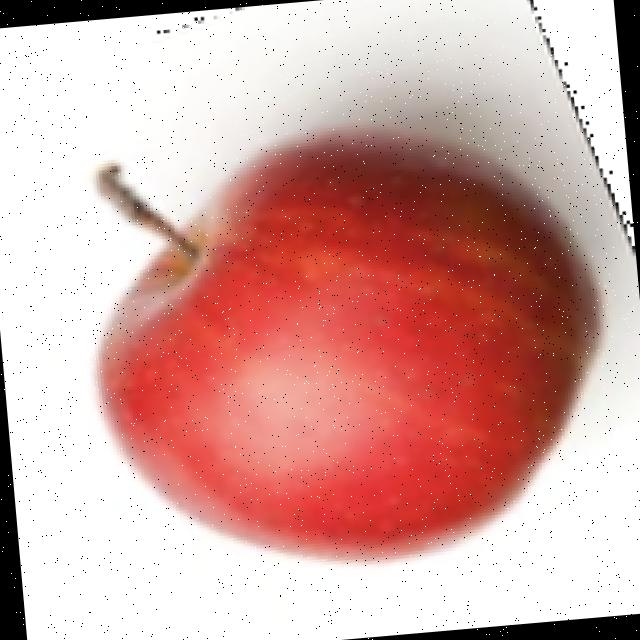apple: (85, 3, 633, 571)
